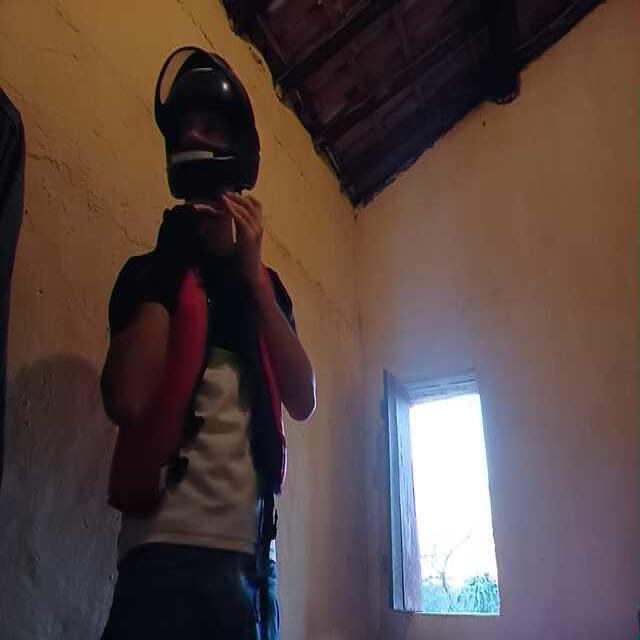capacete: (148, 41, 270, 210)
colete: (108, 248, 207, 515), (252, 261, 294, 496)
pessoa: (100, 86, 306, 640)
